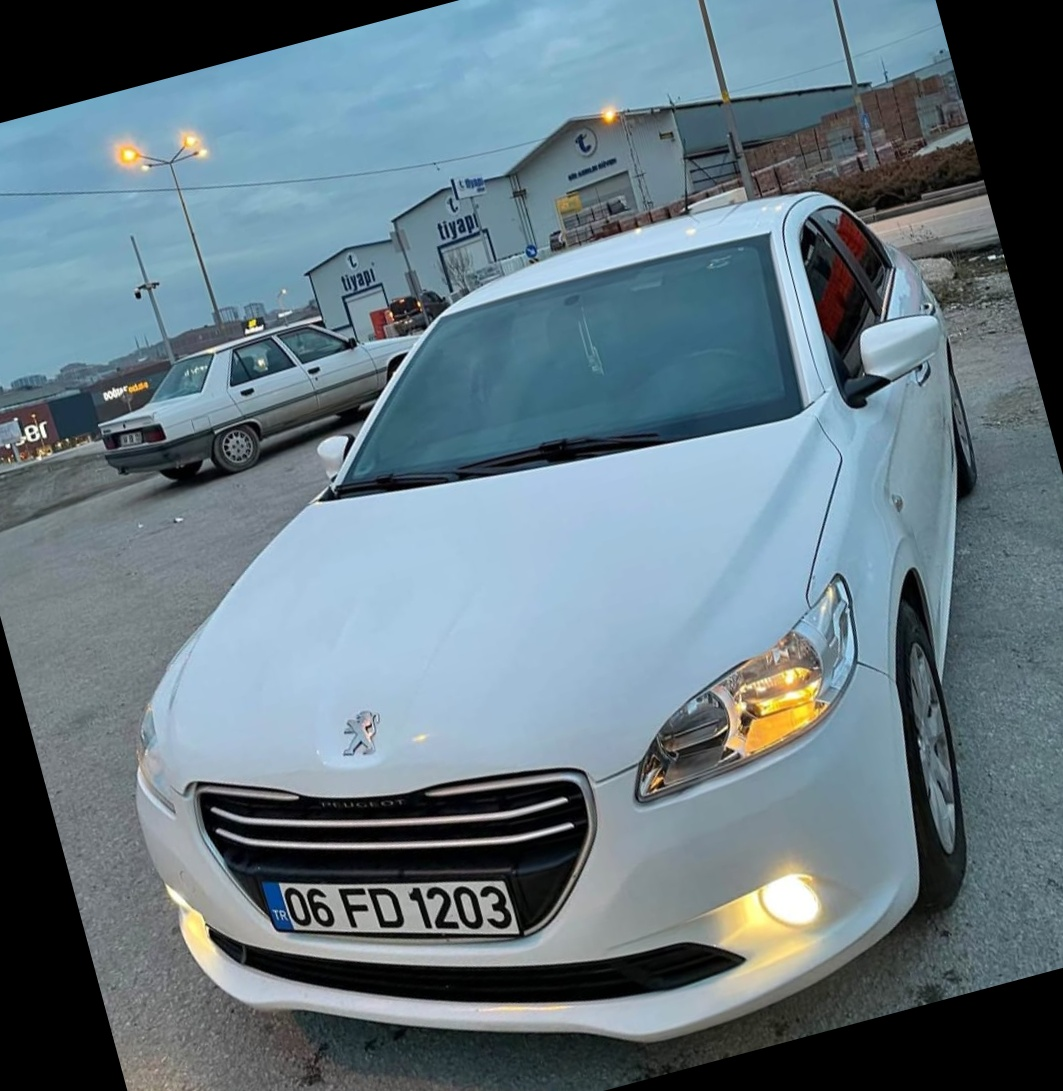plaka: (278, 845, 521, 947)
